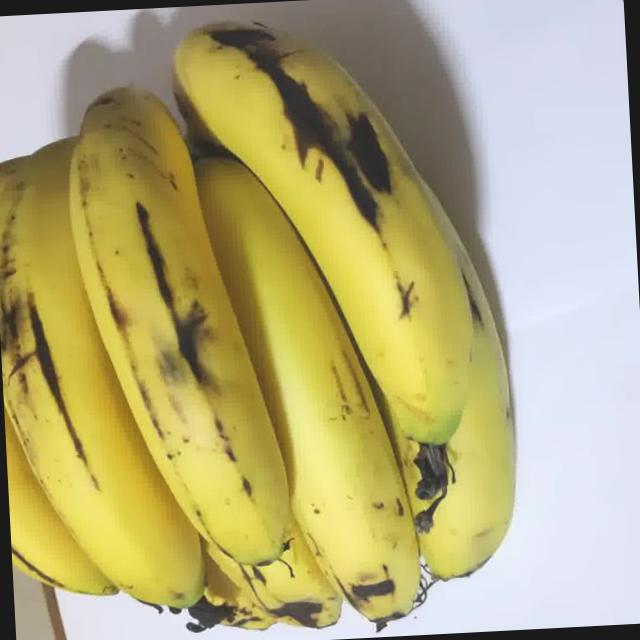banana_pacche: (0, 2, 539, 640)
